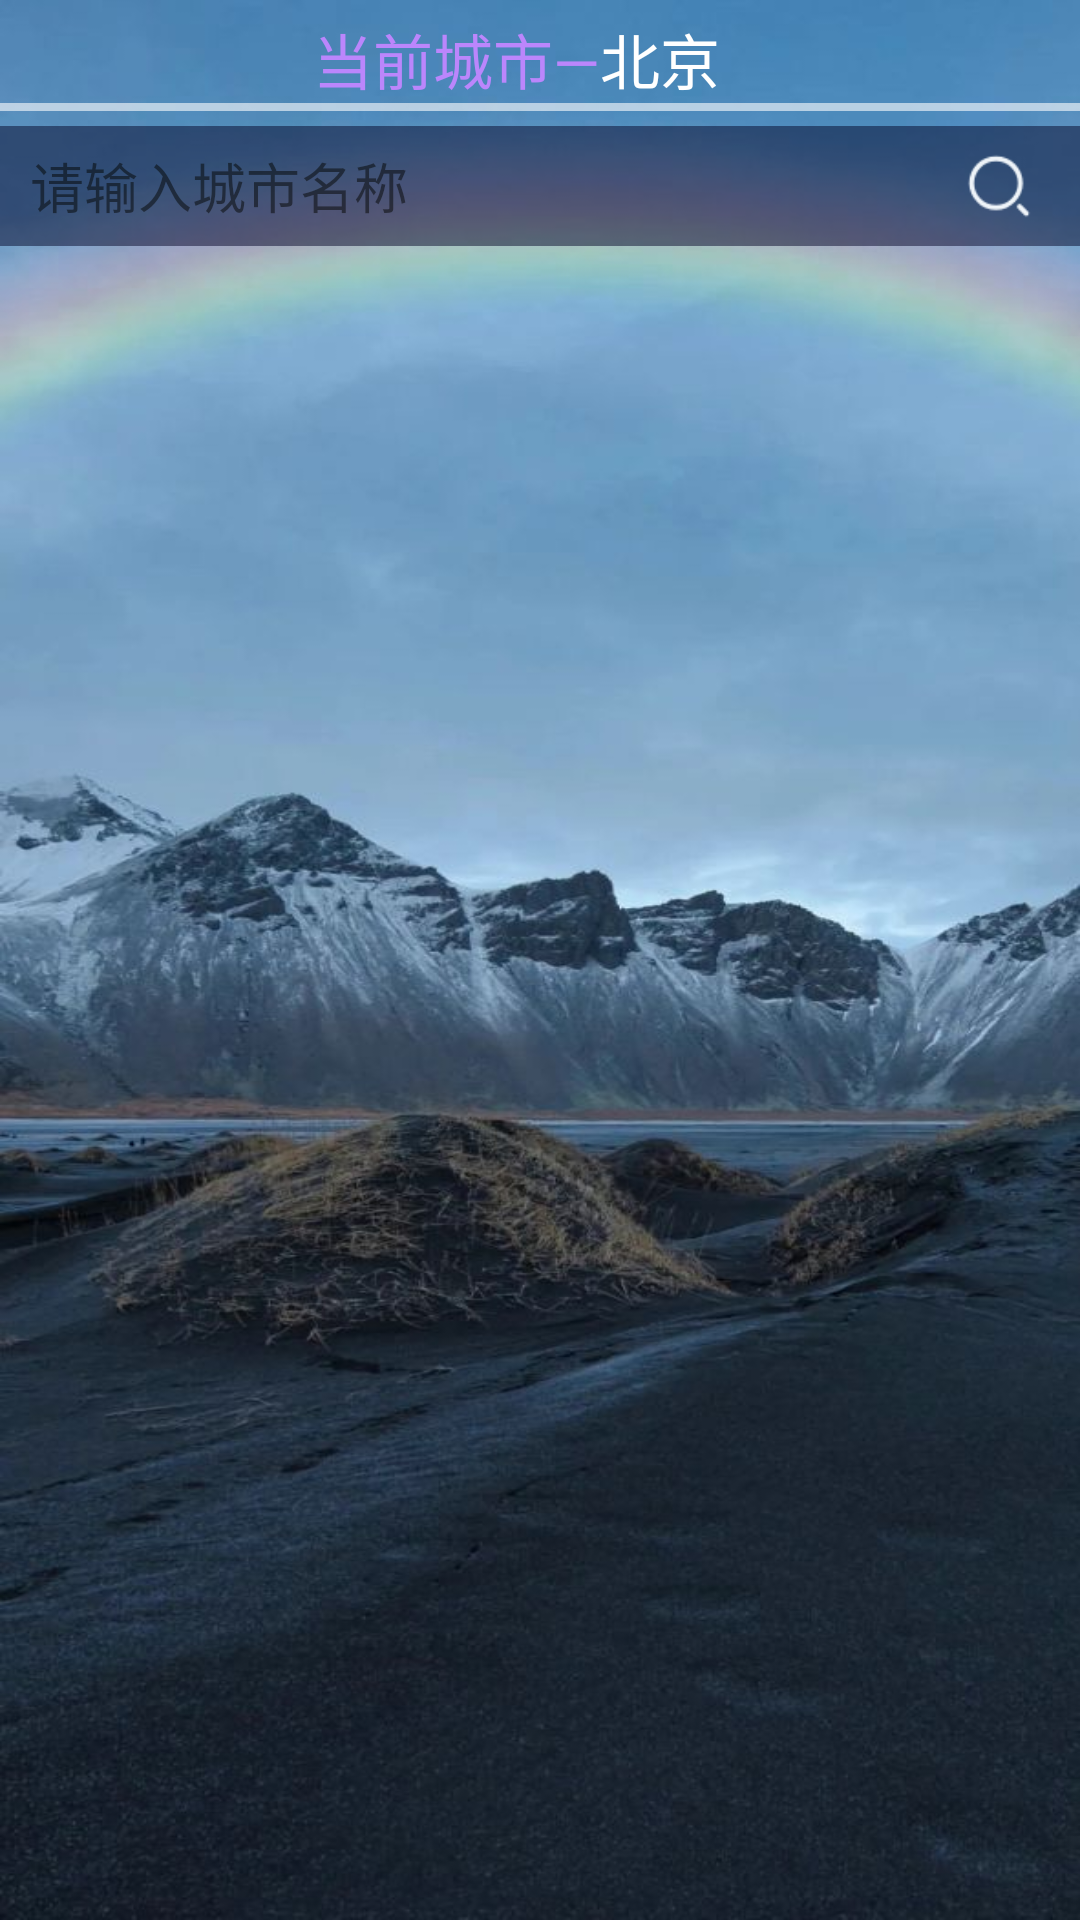

Icons on this 1080*1920 Android screen, each with the point to tap as point (x, y):
search: point (999, 186)
